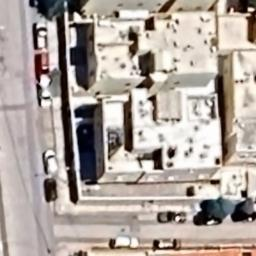SUV: (39, 147, 62, 178)
pickup: (29, 20, 52, 50)
sedan: (42, 179, 62, 205)
truck: (34, 80, 60, 110)
unknown: (156, 208, 190, 226), (153, 236, 184, 252)
van: (32, 52, 60, 78), (108, 235, 143, 250)
